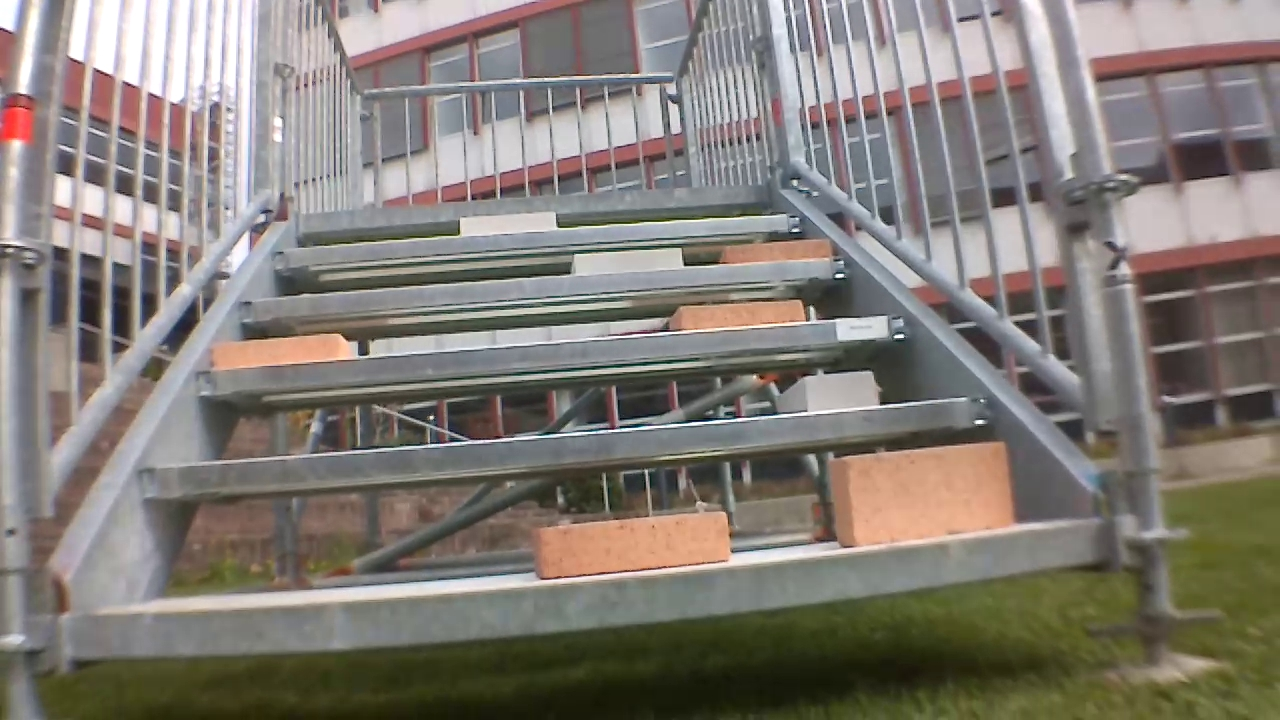brick: (829, 443, 1018, 543), (531, 500, 732, 579), (668, 294, 808, 335), (214, 329, 350, 369), (458, 207, 562, 240), (786, 374, 878, 407), (562, 250, 679, 272), (720, 236, 829, 259)
edge: (75, 523, 1117, 660), (133, 391, 1000, 505), (197, 328, 919, 392), (230, 256, 846, 322), (264, 211, 804, 270), (287, 184, 770, 229)
stairs: (0, 0, 1206, 712)
steps: (45, 180, 1099, 662)
